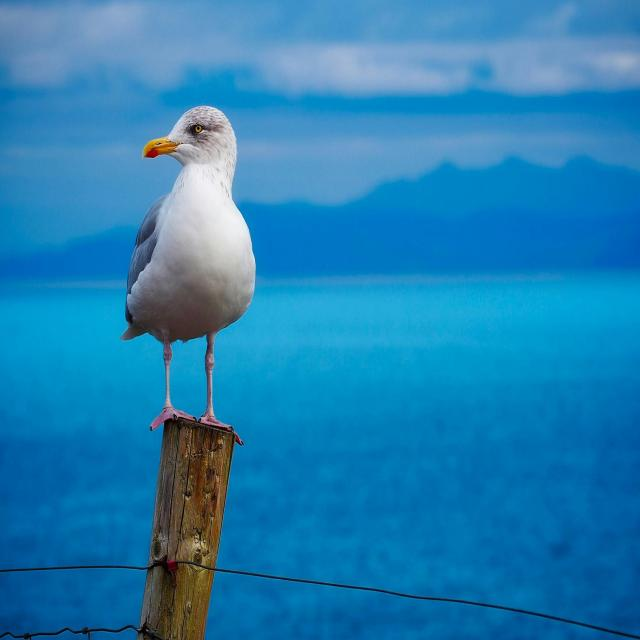starfish: (120, 106, 255, 428)
